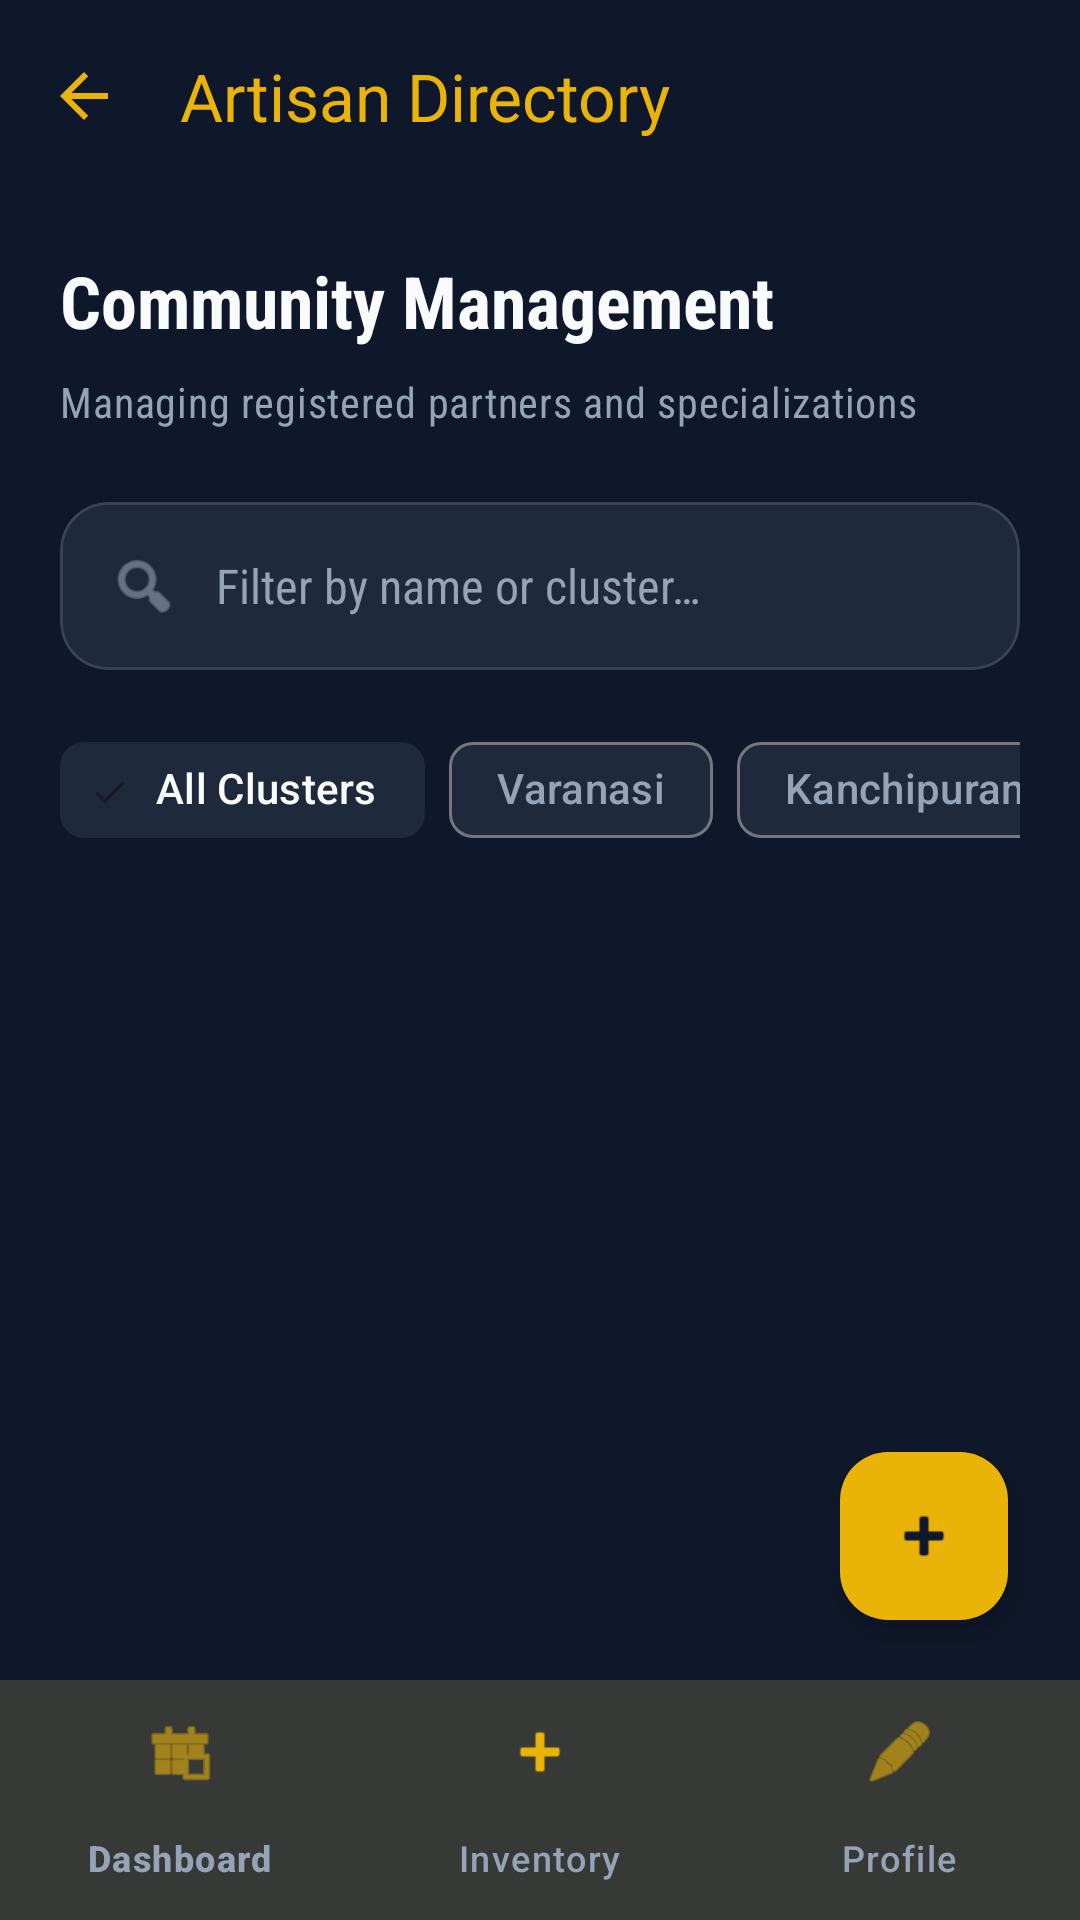

Where to tap for icons on this 1080 x 1920 app screen, as [x,y]:
Enroll New Artisan: [924,1536]
search: [144,586]
